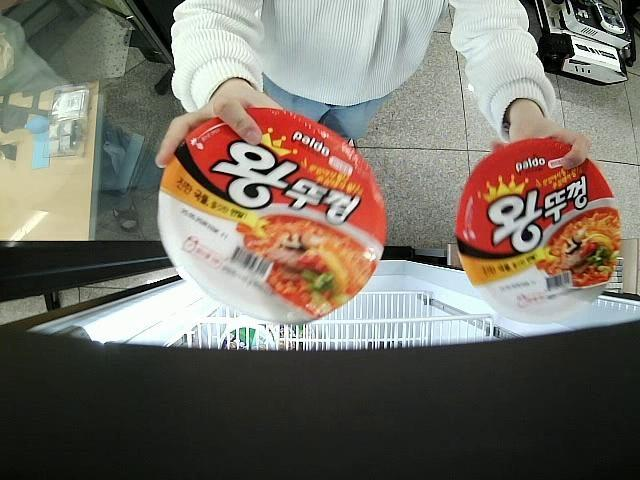10_wangTtukkeong: (161, 107, 386, 324), (456, 141, 621, 322)
